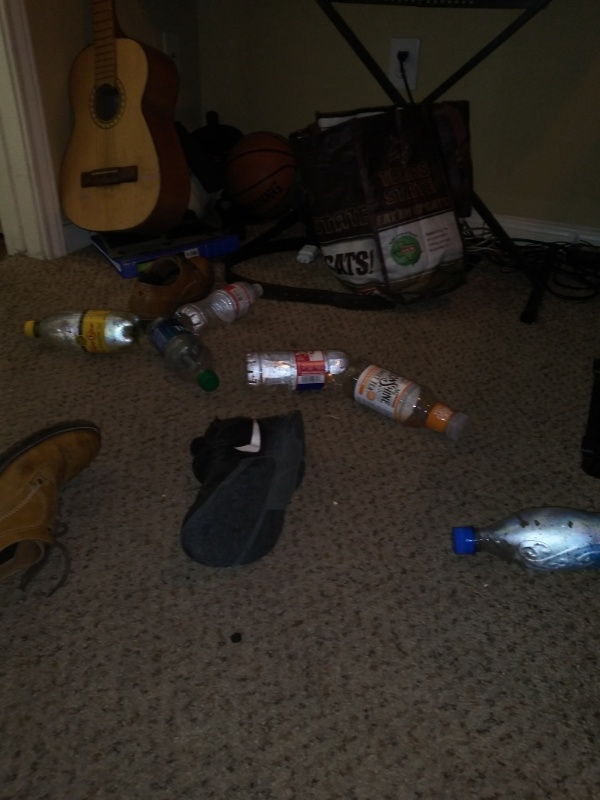bottle: (334, 354, 474, 440), (446, 502, 600, 574), (17, 302, 142, 361), (144, 311, 223, 395), (237, 348, 369, 395), (173, 276, 270, 338)
